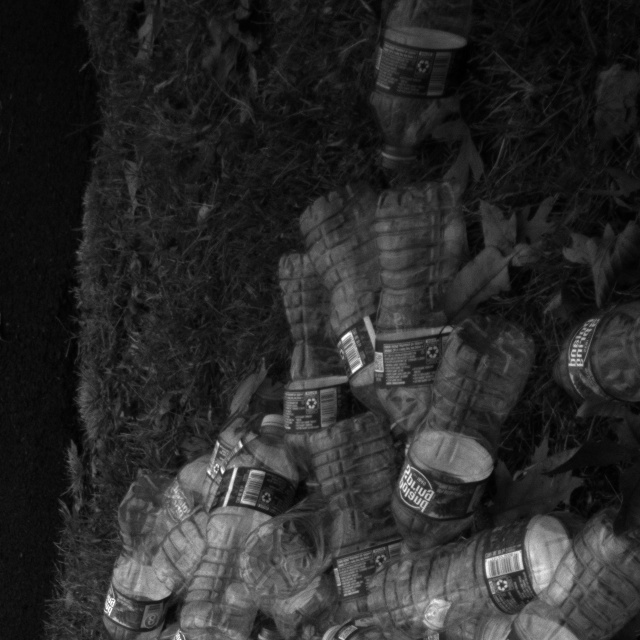bottle: (338, 471, 588, 640), (379, 307, 539, 566), (145, 421, 295, 640), (352, 163, 457, 443), (298, 159, 403, 402), (347, 1, 470, 185), (472, 517, 640, 640), (327, 369, 405, 631), (265, 214, 352, 438), (307, 573, 486, 640), (219, 585, 300, 640)
